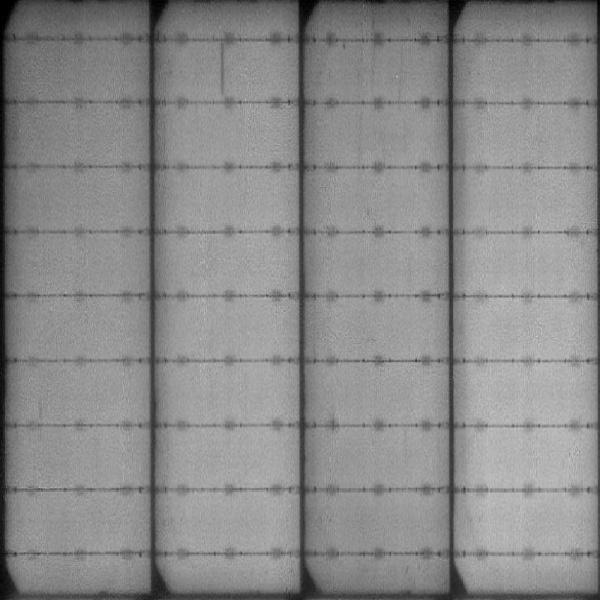scratch: (215, 41, 228, 96)
